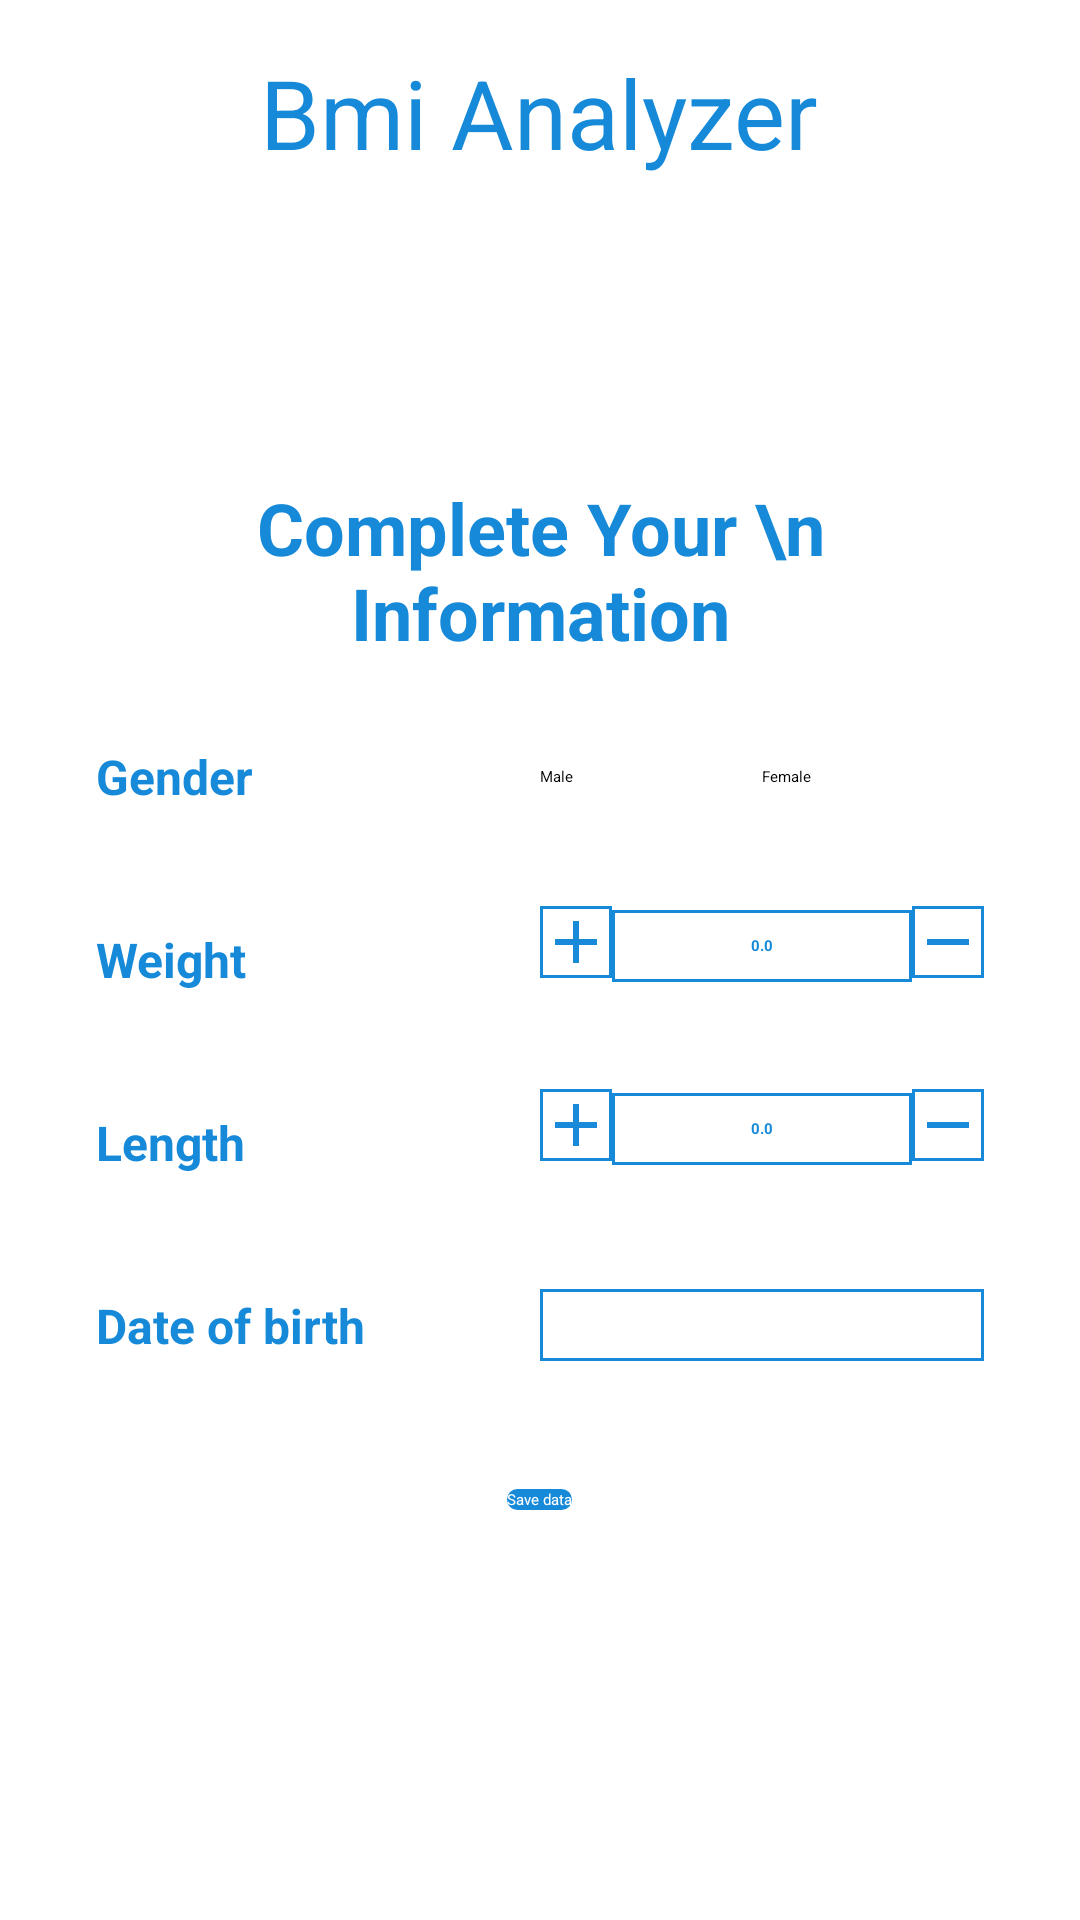

Where to tap for icons on this 1080x1920 app screen, as (x=x, y=y):
add: (x=576, y=942), (x=576, y=1125)
remove: (x=948, y=942), (x=948, y=1125)
